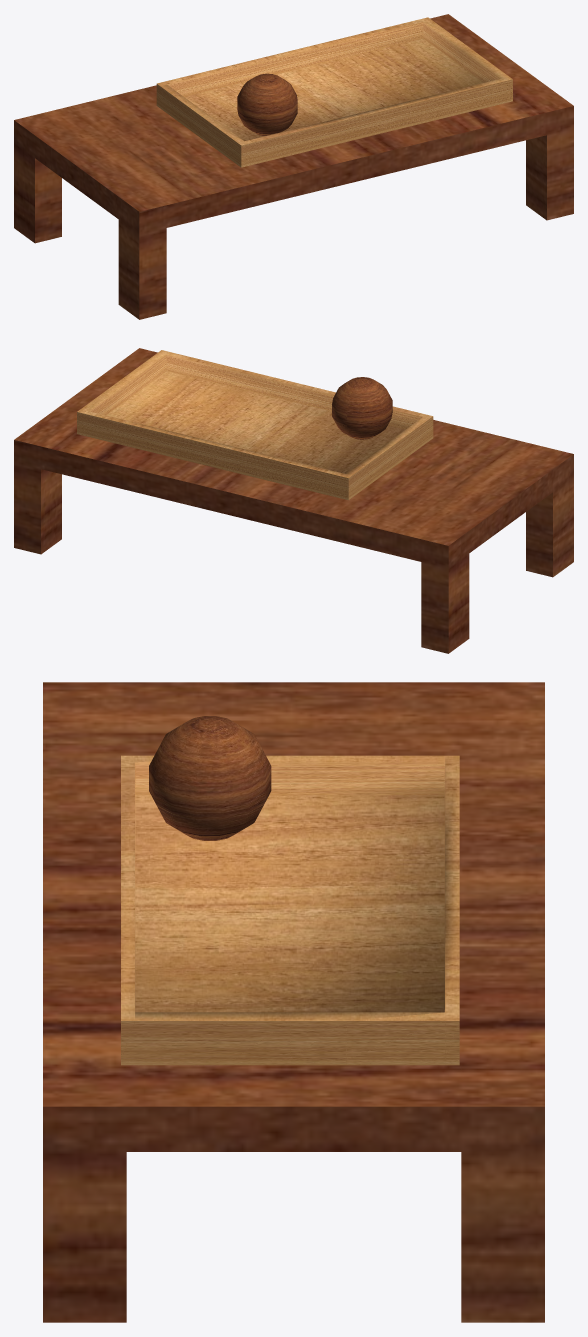
File: mesa_central.obj
3 views of the same model, one above another, from view 1: azimuth 30°, elevation 25°; view 2: azimuth 150°, elevation 25°; view 3: azimuth 270°, elevation 25° (orthographic). The views are drawn at different scales.
Parts seen in each view (by area): view 1: Box002, Box003, Sphere001; view 2: Box002, Box003, Sphere001; view 3: Box002, Box003, Sphere001.
Part boxes in pixels (left/top/right/bottom): Box002: left=14, top=14, right=573, bottom=319; Box003: left=156, top=17, right=512, bottom=167; Sphere001: left=237, top=73, right=297, bottom=135; Box002: left=14, top=348, right=573, bottom=653; Box003: left=77, top=350, right=433, bottom=500; Sphere001: left=332, top=377, right=392, bottom=439; Box002: left=43, top=682, right=544, bottom=1322; Box003: left=121, top=755, right=459, bottom=1065; Sphere001: left=149, top=716, right=271, bottom=840.
Bounding box in the file's own units: 72 × 27.12 × 36.
Materials: 2 (2 with a texture image).
